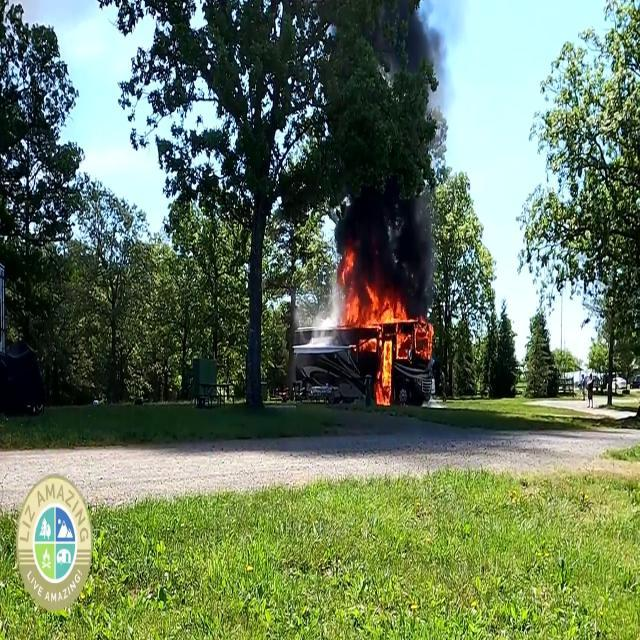Fire: (344, 270, 410, 400)
Smoke: (318, 2, 448, 298)
